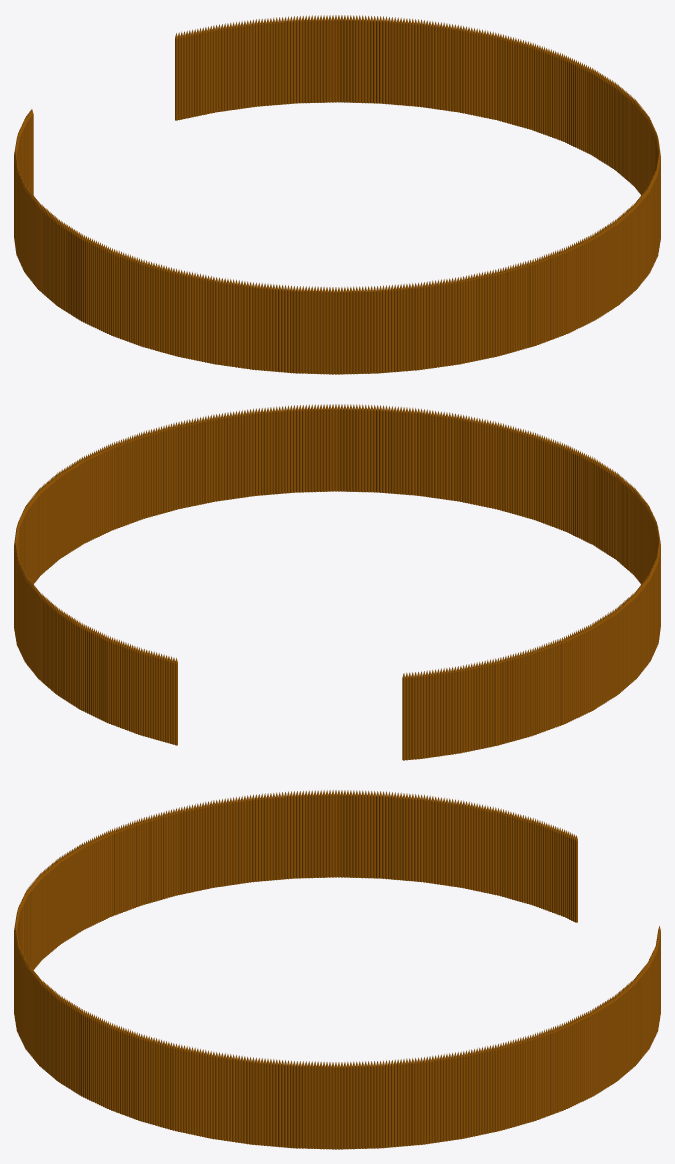
Rendered from Mote_Palissade.fbx.
The picture shows the model from 3 angles, top to bottom: view 1: azimuth 30°, elevation 25°; view 2: azimuth 150°, elevation 25°; view 3: azimuth 270°, elevation 25°; orthographic projection.
Visible parts, largest first — view 1: Palissade Mote; view 2: Palissade Mote; view 3: Palissade Mote.
Boxes of the visible parts, x1,y1,x2,y2 form: Palissade Mote: (14, 15, 660, 374); Palissade Mote: (14, 404, 660, 760); Palissade Mote: (14, 790, 660, 1149).
Size of the model in its own units: 2009 by 300 by 2009.
